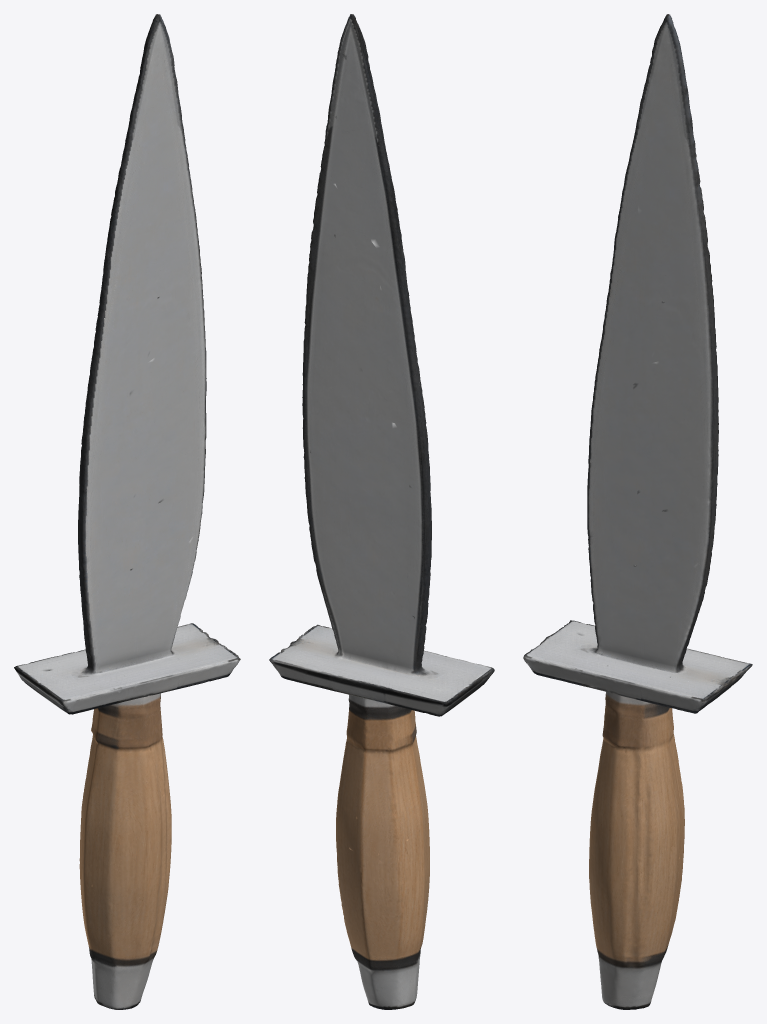
Rendered from Meshy_AI_Shadow_Blade_0429164320_texture.fbx.
The picture shows the model from 3 angles, left to right: view 1: azimuth 30°, elevation 25°; view 2: azimuth 150°, elevation 25°; view 3: azimuth 330°, elevation 25°; orthographic projection.
Parts seen in each view (by area): view 1: Mesh_0; view 2: Mesh_0; view 3: Mesh_0.
Boxes of the visible parts, x1,y1,x2,y2 form: Mesh_0: [14, 14, 240, 1009]; Mesh_0: [269, 14, 494, 1009]; Mesh_0: [523, 14, 752, 1009].
Bounding box in the file's own units: 38.53 × 200 × 18.35.
1 material, 1 textured.
